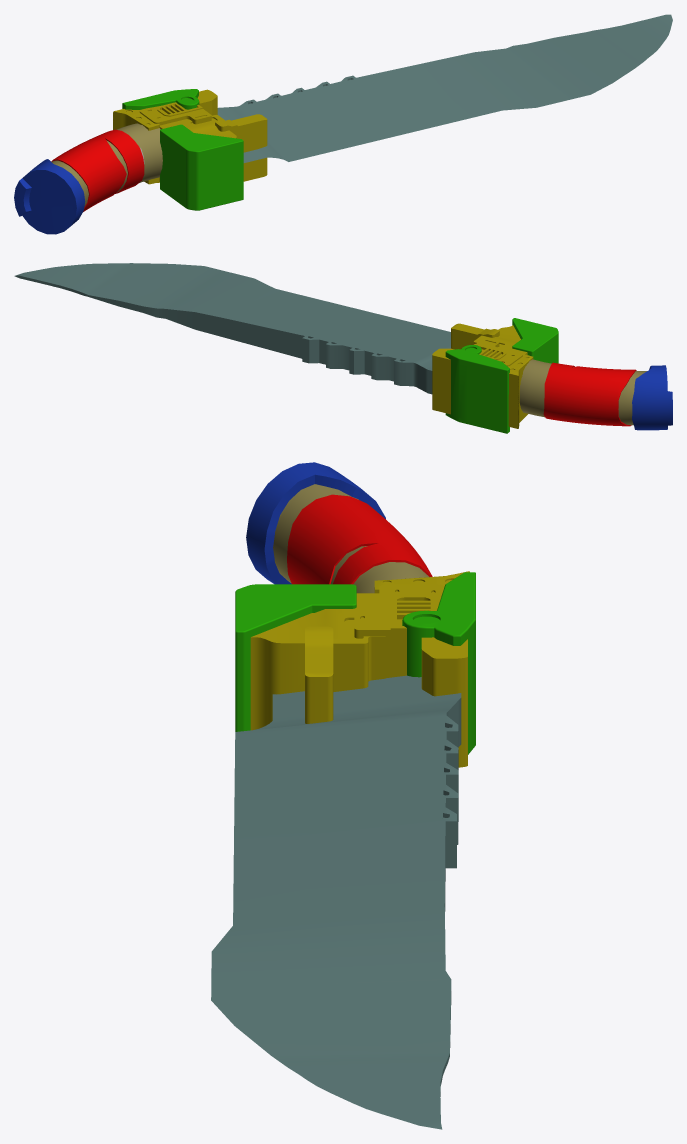
The model's file is zombie sword.fbx.
3 renders of one model, top to bottom at view 1: azimuth 30°, elevation 25°; view 2: azimuth 150°, elevation 25°; view 3: azimuth 270°, elevation 25°, orthographic. The views are drawn at different scales.
Parts seen in each view (by area): view 1: pPlane20, pCylinder1, polySurface23, polySurface20, polySurface22, polySurface19, polySurface18, polySurface21, polySurface17; view 2: pPlane20, pCylinder1, polySurface19, polySurface23, polySurface17, polySurface18, polySurface20, polySurface22, polySurface21; view 3: pPlane20, pCylinder1, polySurface21, polySurface23, polySurface19, polySurface22, polySurface17, polySurface20.
Part boxes in pixels (x1,y1,x2,y2): pPlane20: (217, 14, 672, 162); pCylinder1: (14, 123, 162, 234); polySurface23: (160, 124, 243, 210); polySurface20: (215, 114, 267, 181); polySurface22: (139, 102, 211, 182); polySurface19: (122, 89, 199, 109); polySurface18: (113, 109, 159, 184); polySurface21: (159, 115, 236, 181); polySurface17: (197, 89, 217, 115); pPlane20: (14, 263, 450, 394); pCylinder1: (519, 359, 672, 430); polySurface19: (445, 345, 509, 433); polySurface23: (512, 318, 558, 363); polySurface17: (432, 348, 454, 414); polySurface18: (508, 354, 533, 428); polySurface20: (451, 323, 499, 349); polySurface22: (474, 338, 522, 366); polySurface21: (473, 325, 527, 354); pPlane20: (211, 675, 461, 1129); pCylinder1: (246, 462, 432, 593); polySurface21: (250, 593, 385, 730); polySurface23: (235, 584, 356, 731); polySurface19: (402, 572, 475, 754); polySurface22: (354, 584, 444, 678); polySurface17: (421, 637, 467, 767); polySurface20: (305, 626, 333, 723).
Size of the model in its own units: 20.91 by 2.01 by 3.78.
